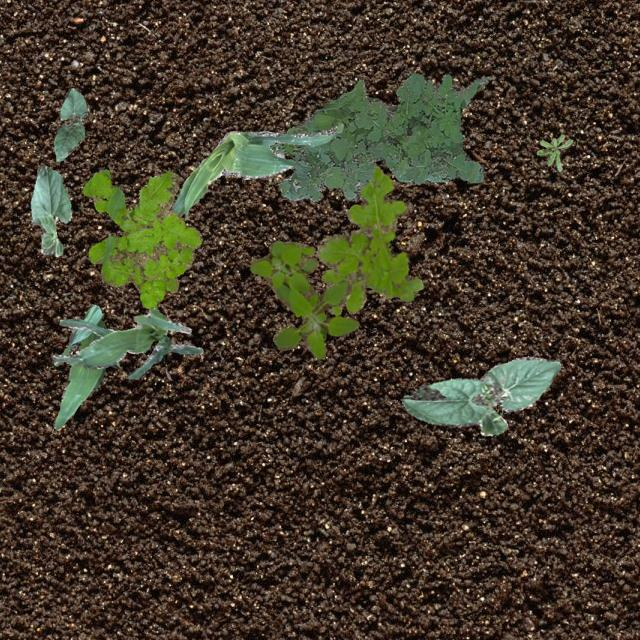crop: (170, 121, 344, 216), (400, 354, 560, 434), (50, 306, 202, 378), (52, 302, 120, 428), (30, 164, 70, 255), (52, 88, 86, 160)
weed: (270, 72, 488, 200), (80, 168, 200, 308), (316, 163, 422, 314), (248, 240, 358, 358), (536, 134, 572, 170)
